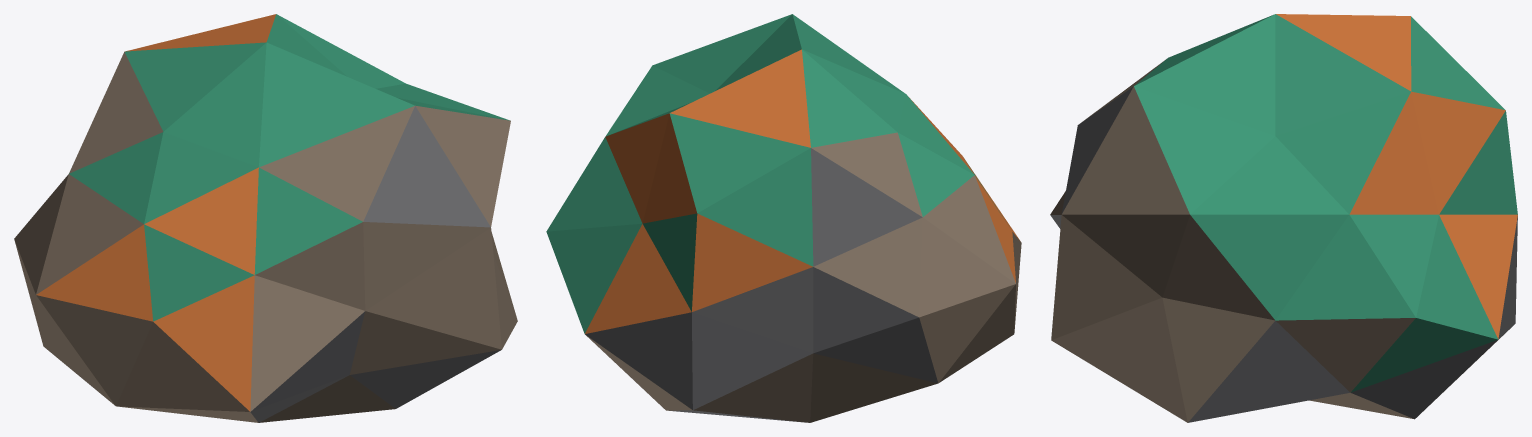
File: copper_ore.glb
3 views of the same model, side by side, from view 1: azimuth 30°, elevation 25°; view 2: azimuth 150°, elevation 25°; view 3: azimuth 270°, elevation 25° (orthographic). The views are drawn at different scales.
Visible parts, largest first — view 1: copper_ore; view 2: copper_ore; view 3: copper_ore.
Part boxes in pixels (x1=…): copper_ore: x1=14, y1=14, x2=517, y2=422; copper_ore: x1=546, y1=14, x2=1021, y2=422; copper_ore: x1=1050, y1=14, x2=1517, y2=422.
Bounding box in the file's own units: 0.9074 × 0.7047 × 0.8124.
